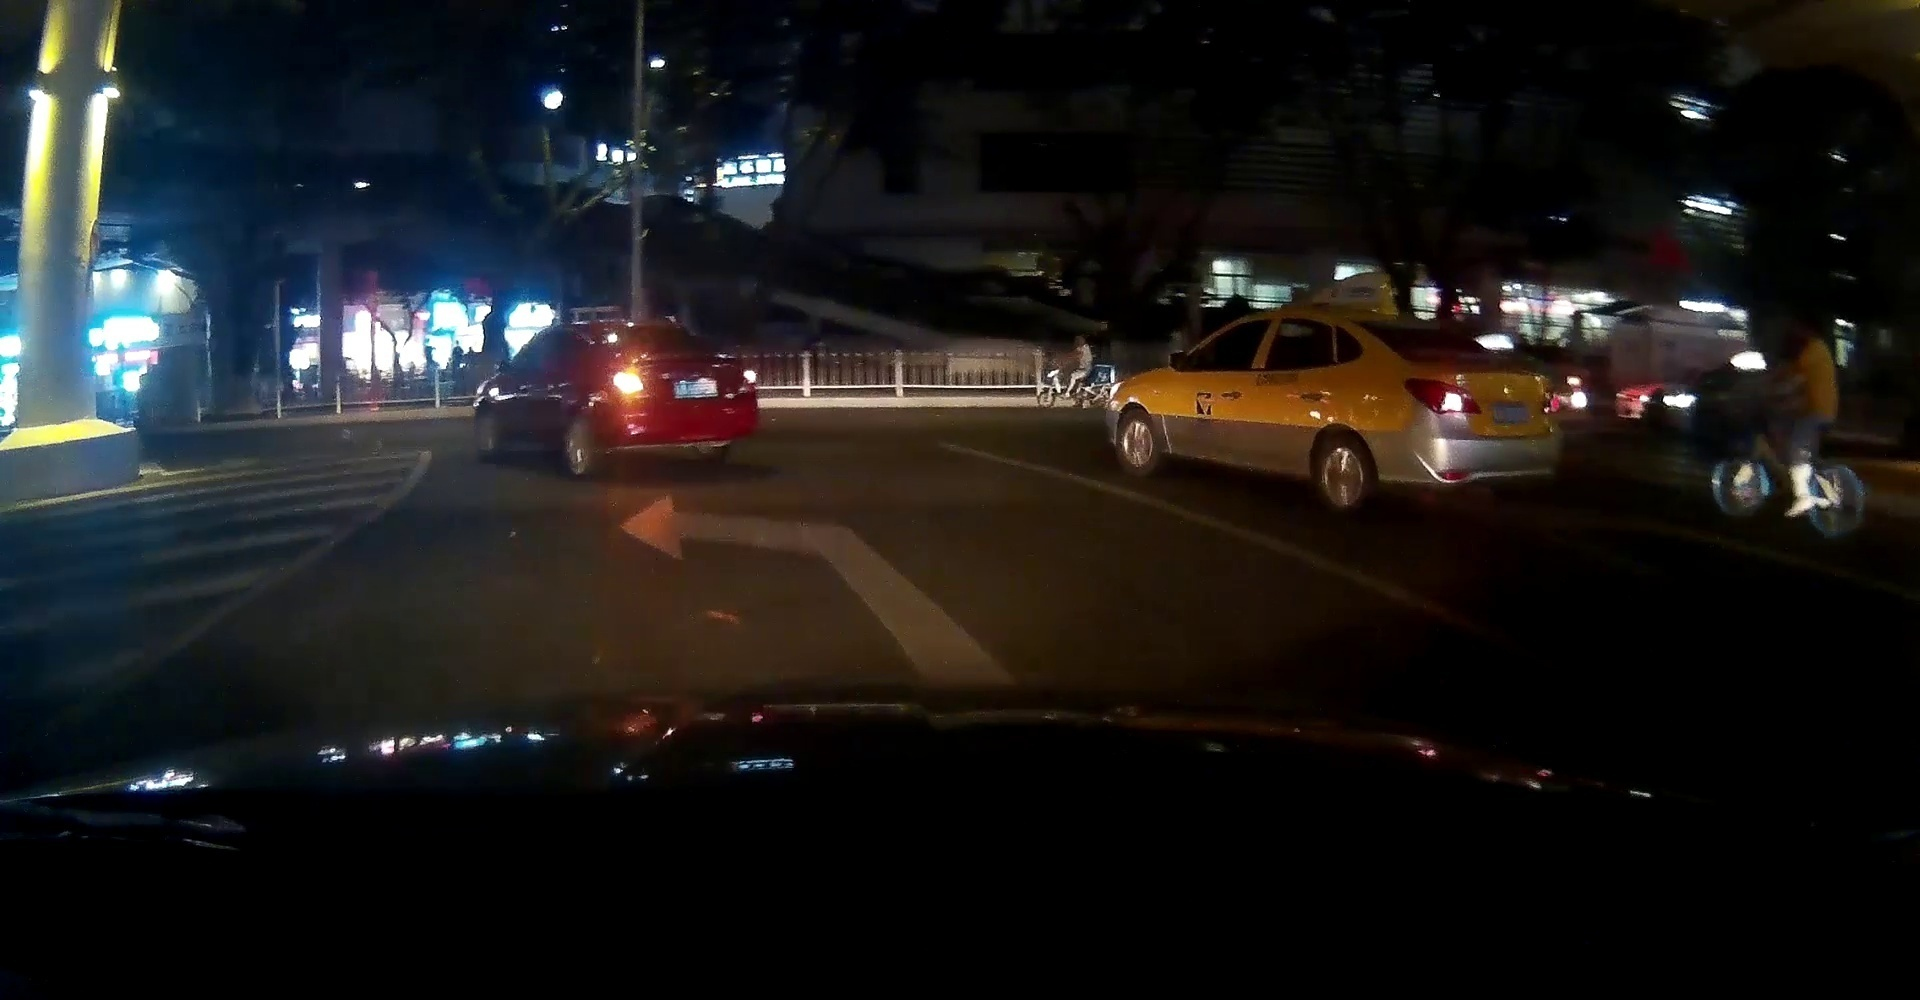L_light: (1403, 377, 1482, 414), (612, 371, 644, 393)
R_light: (1540, 390, 1559, 415), (737, 371, 757, 393)
T_light: (1459, 359, 1487, 364), (659, 354, 682, 359)
night-left: (580, 319, 759, 478)
night-no: (1349, 311, 1564, 516)
